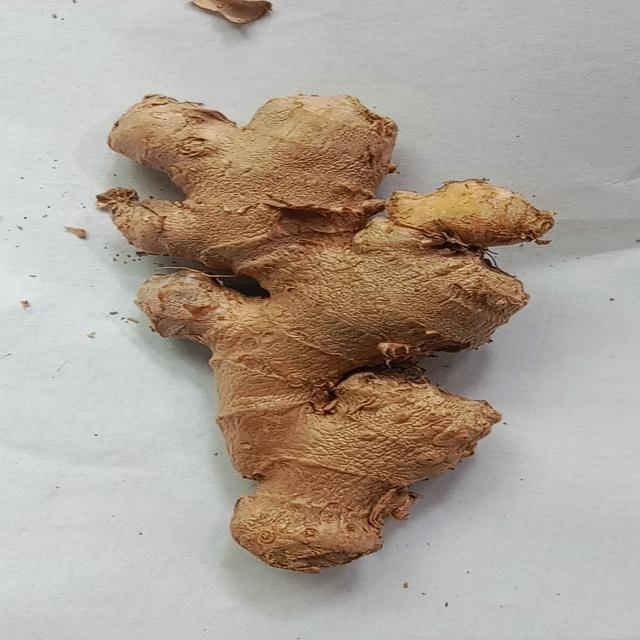ginger: (100, 87, 558, 576)
